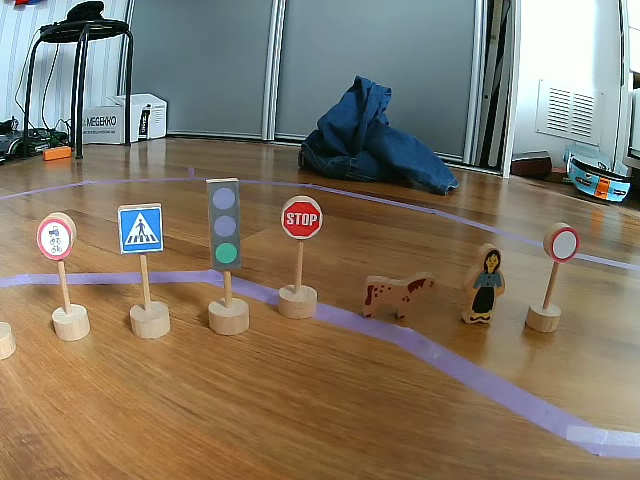fietspad: (39, 216, 76, 260)
groenlicht: (208, 178, 242, 271)
mens: (461, 244, 506, 323)
paard: (362, 272, 439, 320)
stopbord: (280, 197, 322, 242)
wegdicht: (549, 227, 581, 262)
zebrapad: (116, 202, 164, 256)
